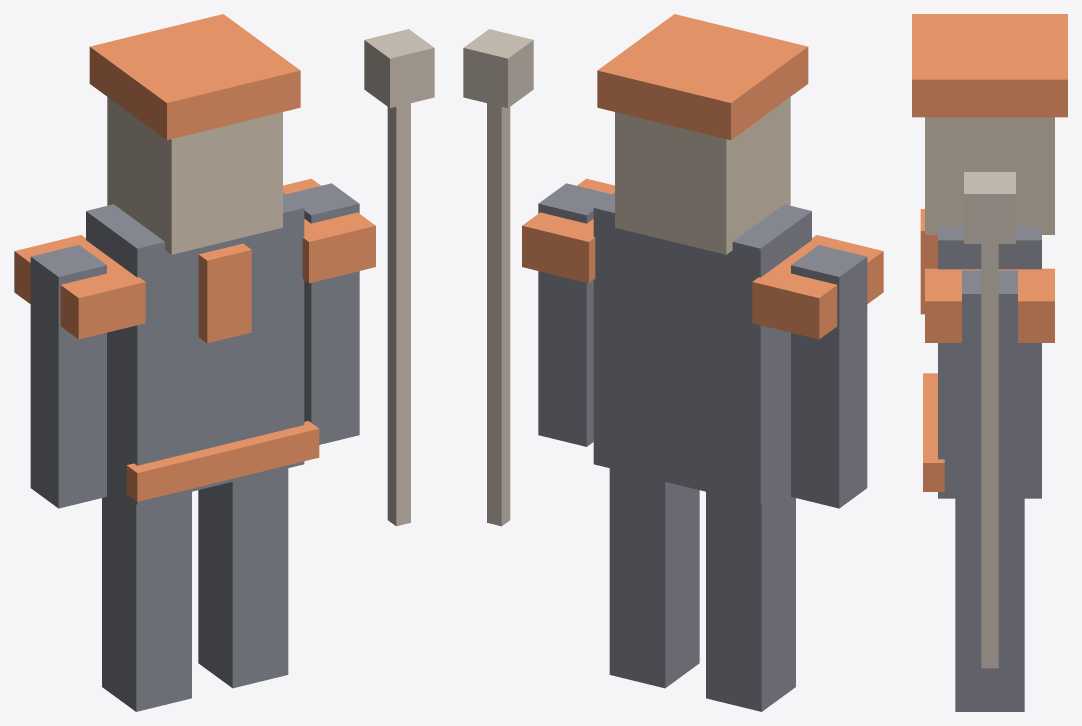
Rendered from 04_ilyra_glassroot_medic_at_defense.glb.
3 renders of one model, left to right at view 1: azimuth 30°, elevation 25°; view 2: azimuth 150°, elevation 25°; view 3: azimuth 270°, elevation 25°, orthographic.
Parts seen in each view (by area): view 1: Ilyra Glassroot, Medic at Defense; view 2: Ilyra Glassroot, Medic at Defense; view 3: Ilyra Glassroot, Medic at Defense.
Part boxes in pixels (x1,y1,x2,y2): Ilyra Glassroot, Medic at Defense: (14, 14, 434, 711); Ilyra Glassroot, Medic at Defense: (463, 14, 883, 711); Ilyra Glassroot, Medic at Defense: (912, 14, 1067, 711).
Bounding box in the file's own units: 0.9539 × 1.5 × 0.3383.
